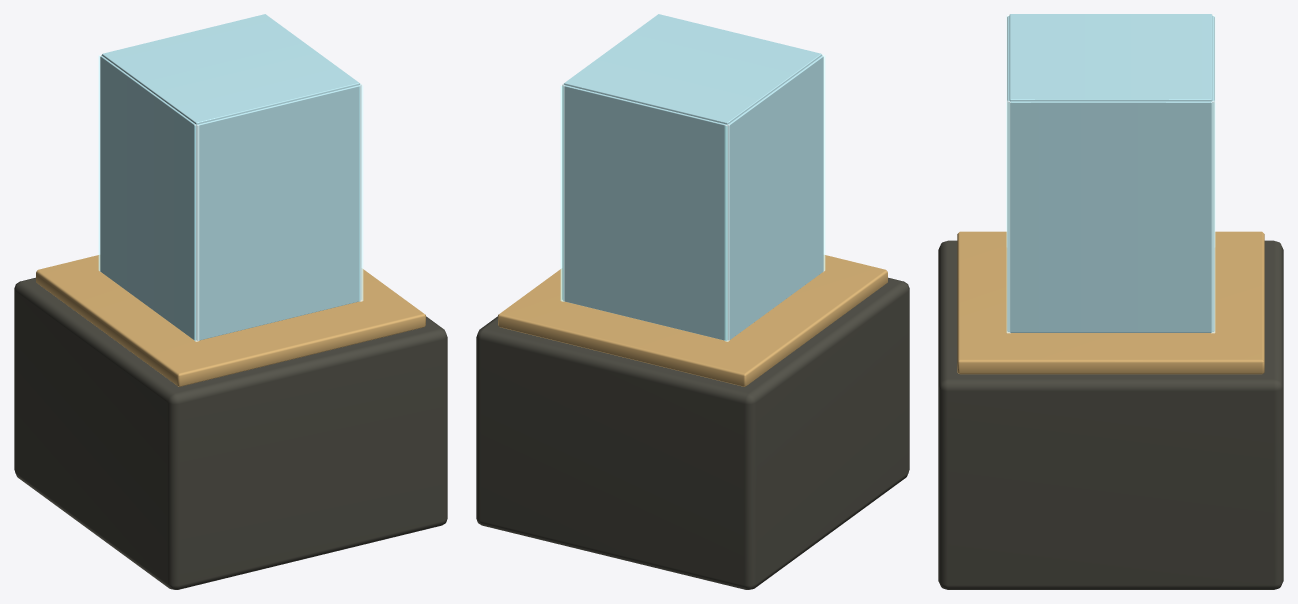
File: hp_furniture_specimen_plinth_combo_v1.glb
3 views of the same model, side by side, from view 1: azimuth 30°, elevation 25°; view 2: azimuth 150°, elevation 25°; view 3: azimuth 270°, elevation 25° (orthographic). The views are drawn at different scales.
Parts seen in each view (by area): view 1: black_square_plinth, glass_front_panel.002, glass_vertical_edge_glint.008; view 2: black_square_plinth, glass_front_panel.002, glass_vertical_edge_glint.008; view 3: black_square_plinth, glass_front_panel.002, glass_vertical_edge_glint.008.
Part boxes in pixels (x1,y1,x2,y2): black_square_plinth: [14, 255, 447, 589]; glass_front_panel.002: [100, 14, 361, 340]; glass_vertical_edge_glint.008: [98, 54, 363, 341]; black_square_plinth: [476, 255, 909, 589]; glass_front_panel.002: [562, 14, 823, 340]; glass_vertical_edge_glint.008: [560, 54, 825, 341]; black_square_plinth: [938, 231, 1283, 589]; glass_front_panel.002: [1007, 14, 1214, 332]; glass_vertical_edge_glint.008: [1006, 15, 1215, 333].
Bounding box in the file's own units: 0.92 × 1.37 × 0.92.
Materials: 4 (4 with a texture image).
